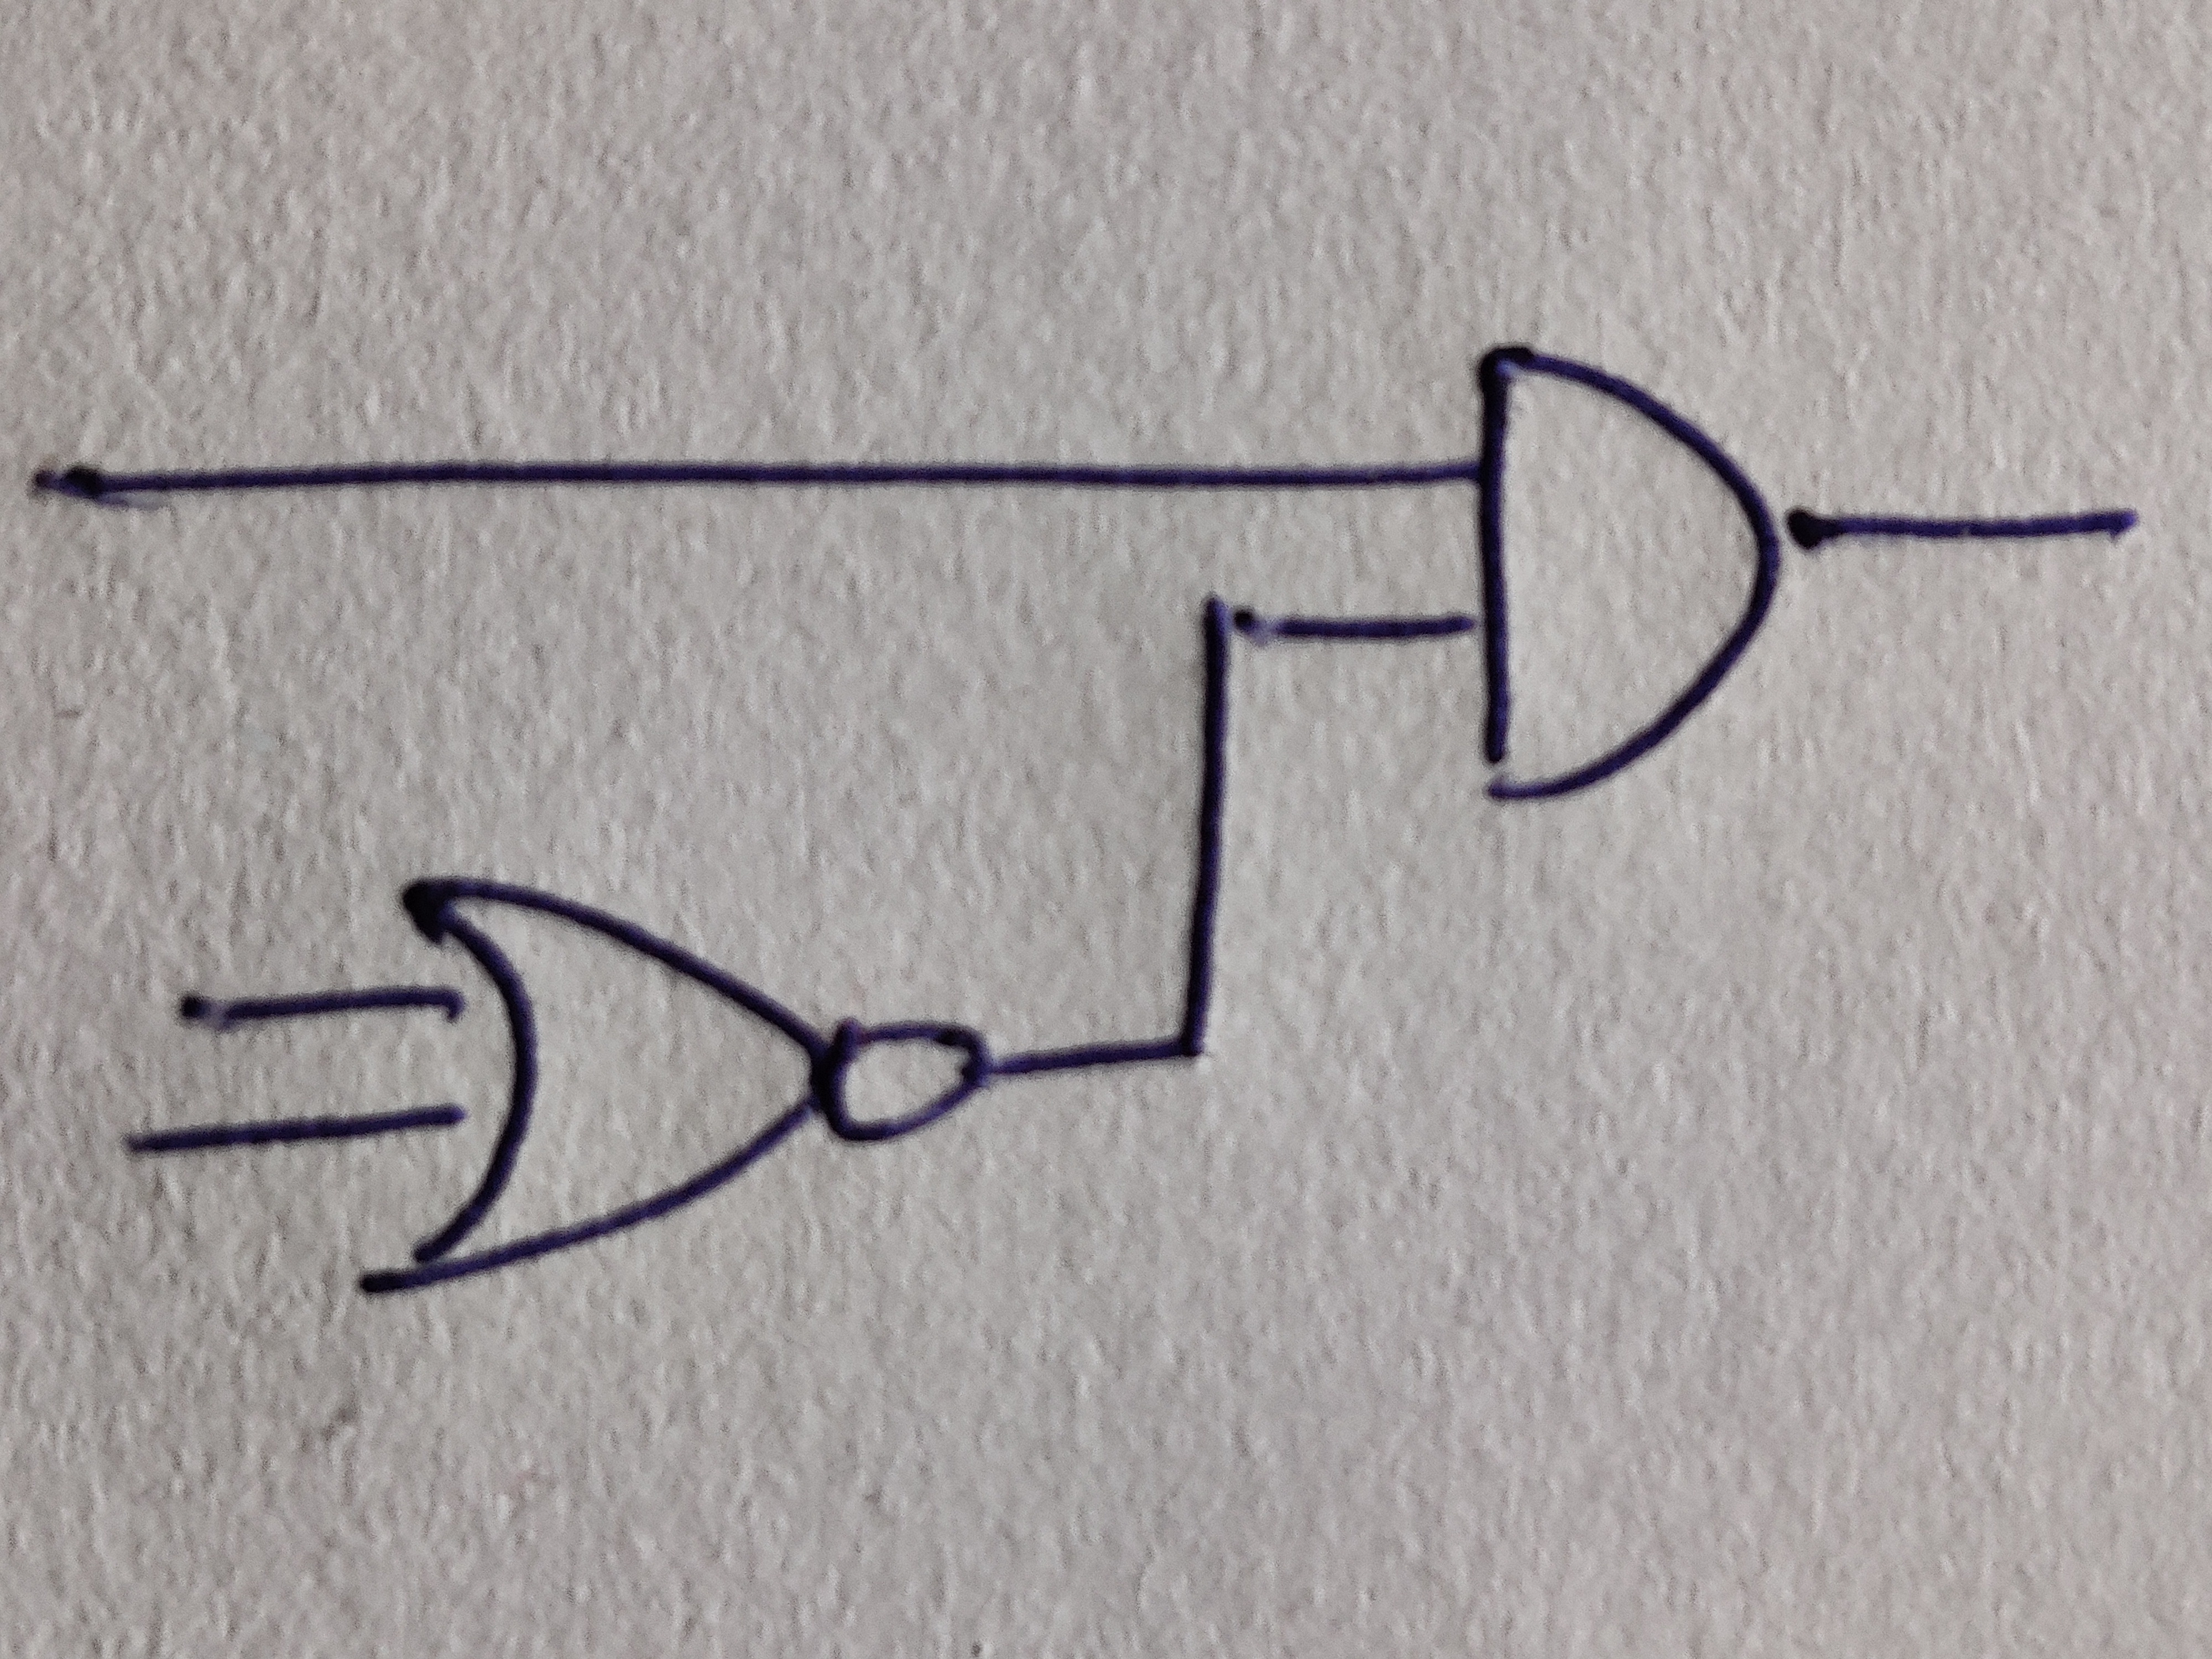and: (1474, 347, 1784, 803)
not: (829, 1016, 991, 1140)
or: (359, 880, 829, 1297)
